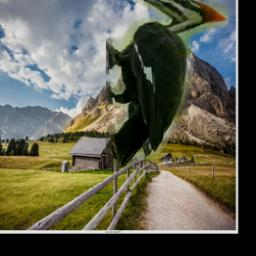Woodpecker: (105, 0, 228, 168)
